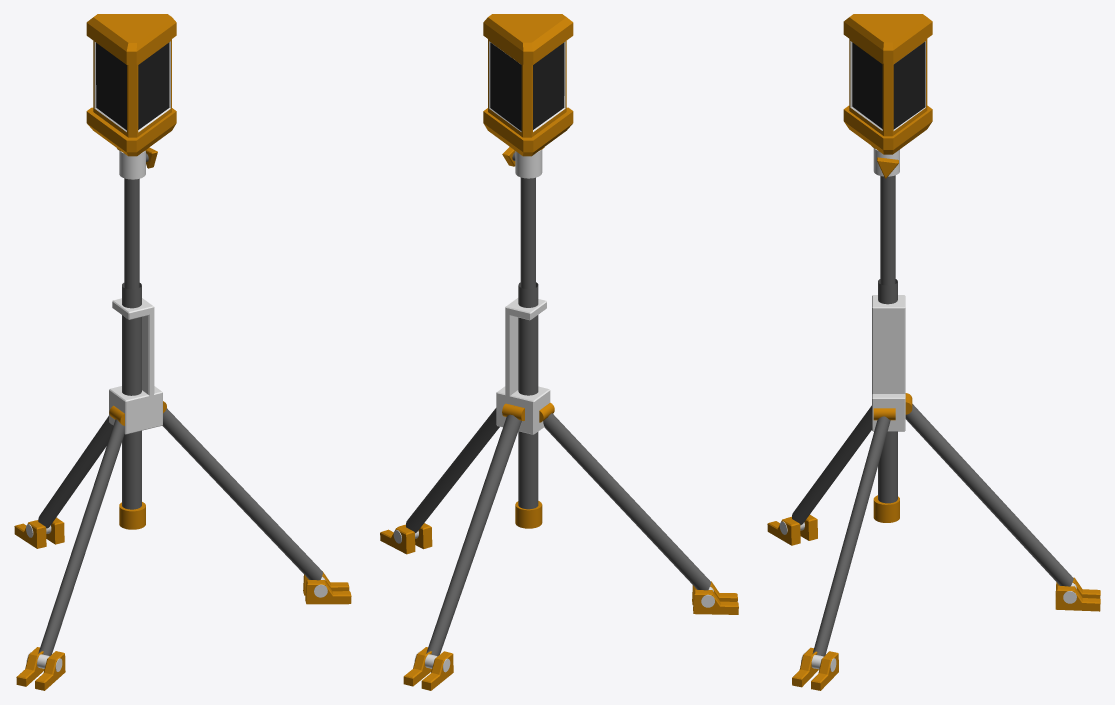
File: S_Projo360.fbx
3 views of the same model, side by side, from view 1: azimuth 30°, elevation 25°; view 2: azimuth 150°, elevation 25°; view 3: azimuth 270°, elevation 25° (orthographic).
Parts seen in each view (by area): view 1: PROJO360; view 2: PROJO360; view 3: PROJO360.
Boxes of the visible parts, x1,y1,x2,y2 form: PROJO360: (14, 14, 351, 690); PROJO360: (380, 14, 738, 690); PROJO360: (767, 14, 1100, 690).
Size of what is drawn, in the model's own units: 136 by 221 by 115.
